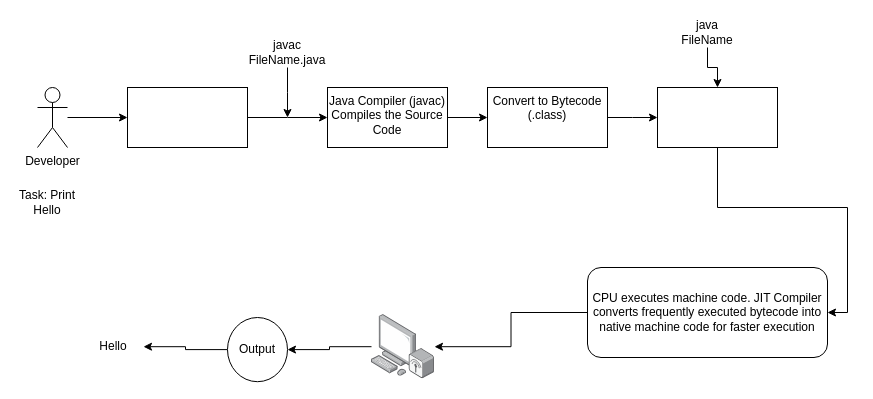
The diagram is 873 pixels wide and 399 high, and some of its shapes have lost their labels. The centre of each missing label's shape, as x and y in pixels:
Java Source code / .java: the point at 187,117
JVM loads, verifies, and executes the bytecode: the point at 717,117
